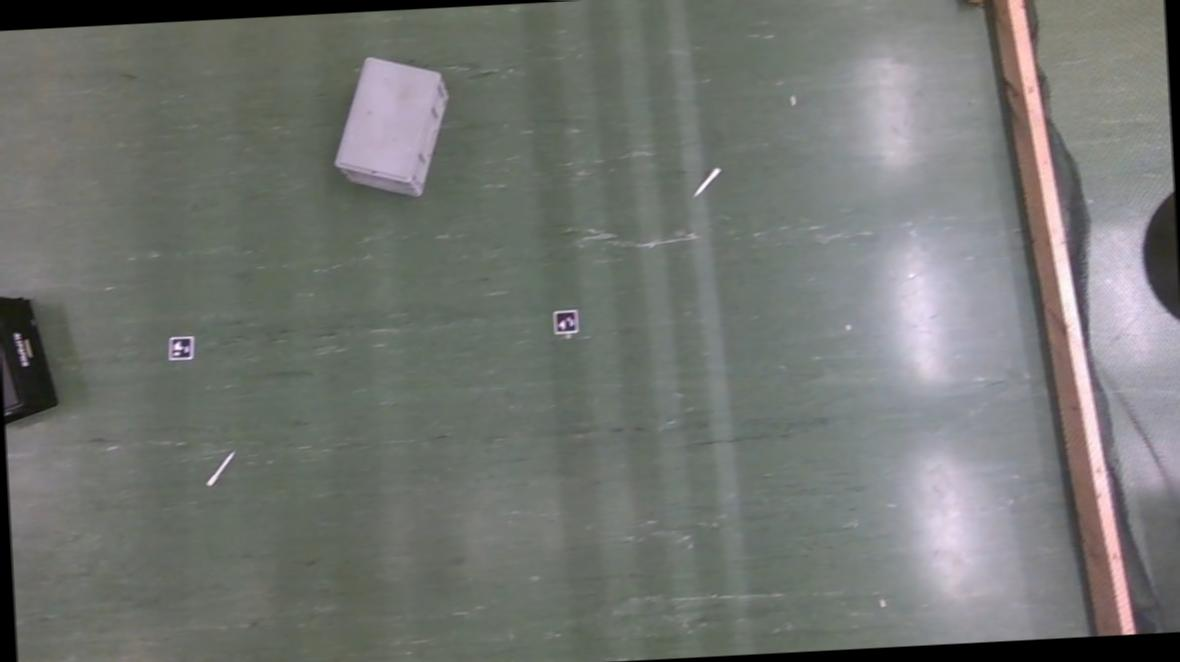probes: (206, 453, 234, 488), (694, 168, 718, 198)
rako: (329, 54, 455, 203), (0, 290, 58, 432)
